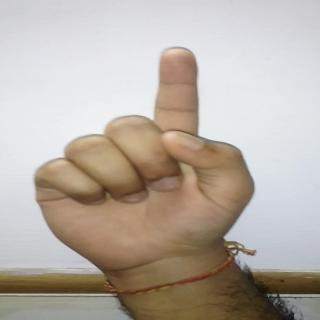I: (40, 36, 270, 271)
